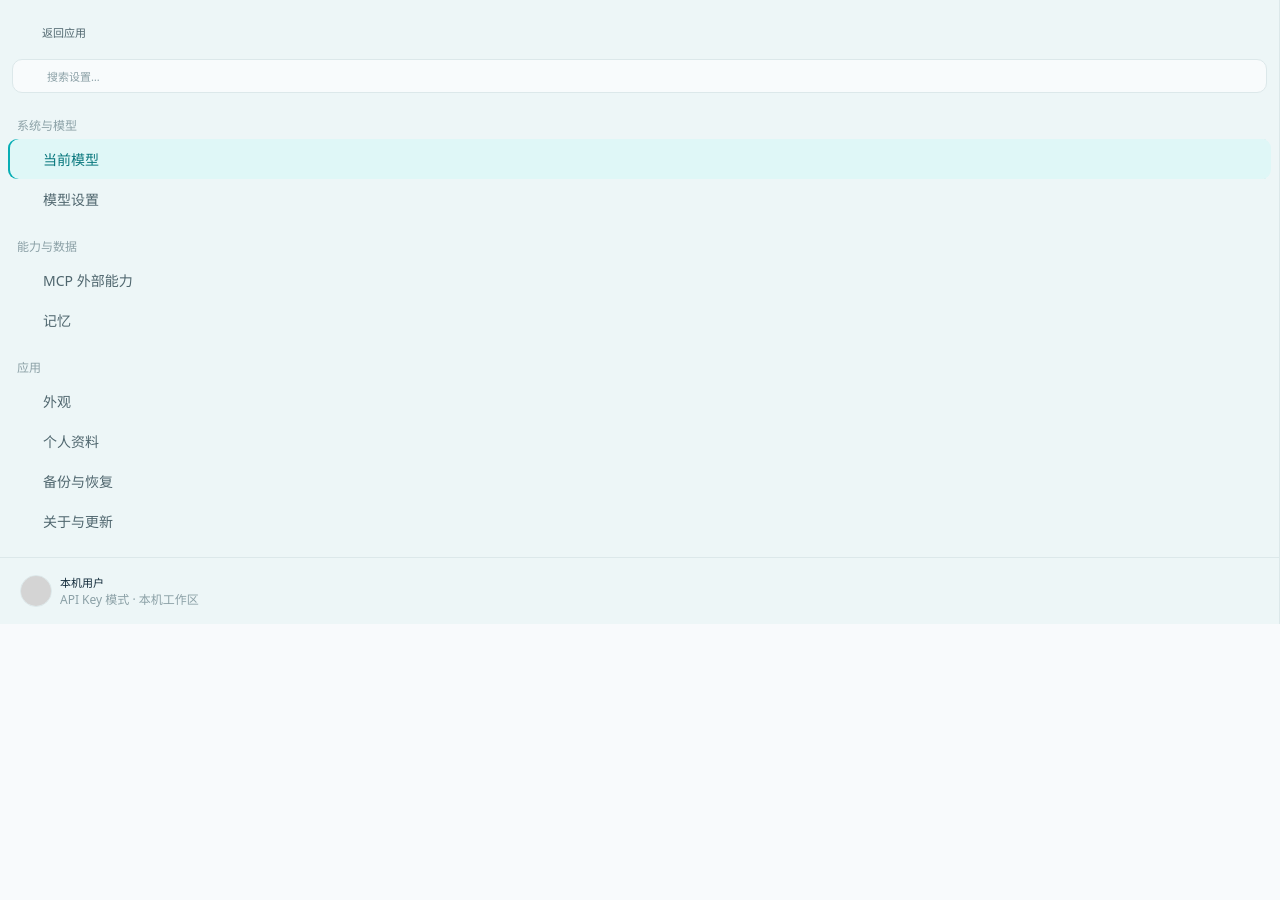
SettingsModuleNav › 搜索只筛选当前已实现的设置模块
The image size is (1280, 900).
Type "备份" into the search field with test id "settings-search".
click(650, 76); type("备份")  # box [45,68,1256,84]
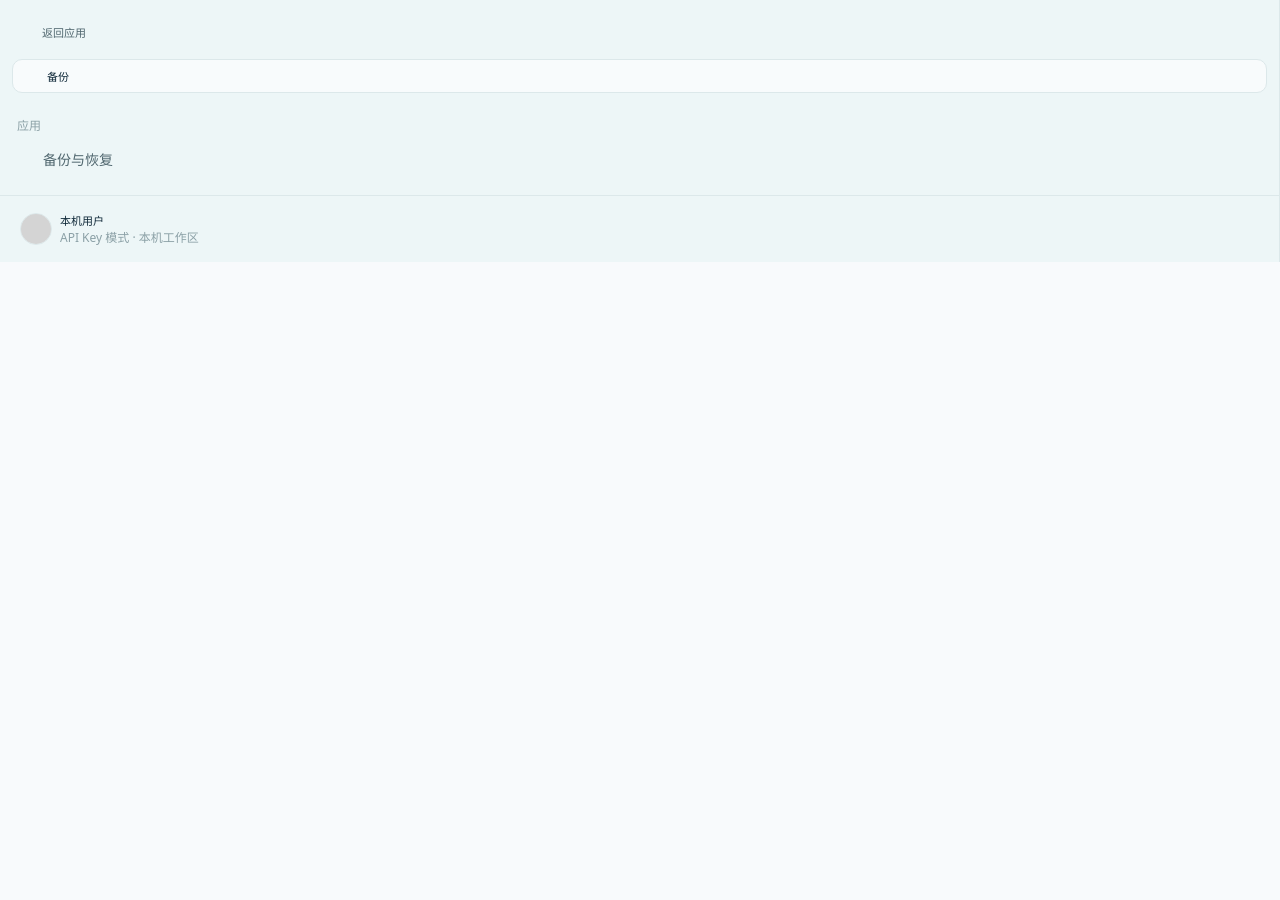
Expected: the number of buttons with class "settings-nav__item" is 1, [8,139,1271,179]
Expected: the text "模型设置" is gone
